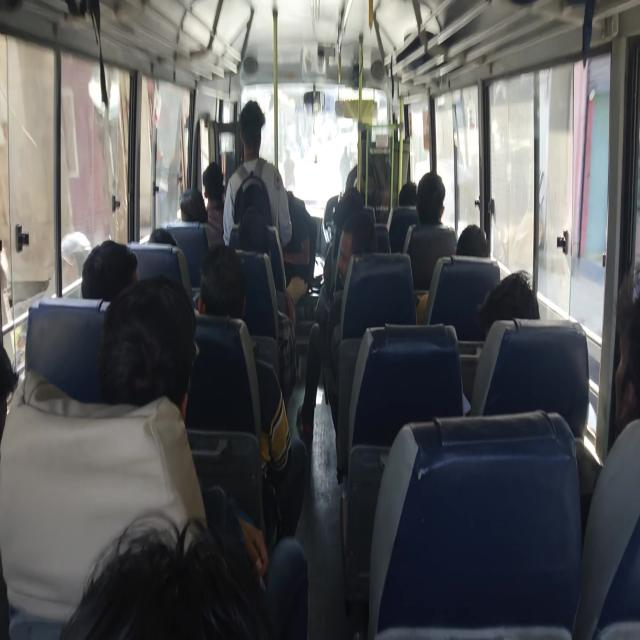person: (104, 481, 285, 640), (110, 278, 180, 398), (607, 301, 640, 516), (484, 280, 544, 372), (0, 328, 30, 428), (236, 99, 261, 168), (178, 182, 212, 232), (84, 250, 128, 288), (457, 220, 490, 268), (240, 223, 282, 257), (208, 250, 235, 298), (349, 205, 382, 244), (420, 173, 443, 216), (339, 180, 361, 212), (137, 236, 187, 250), (396, 178, 421, 205), (198, 172, 227, 188), (241, 198, 269, 208)
